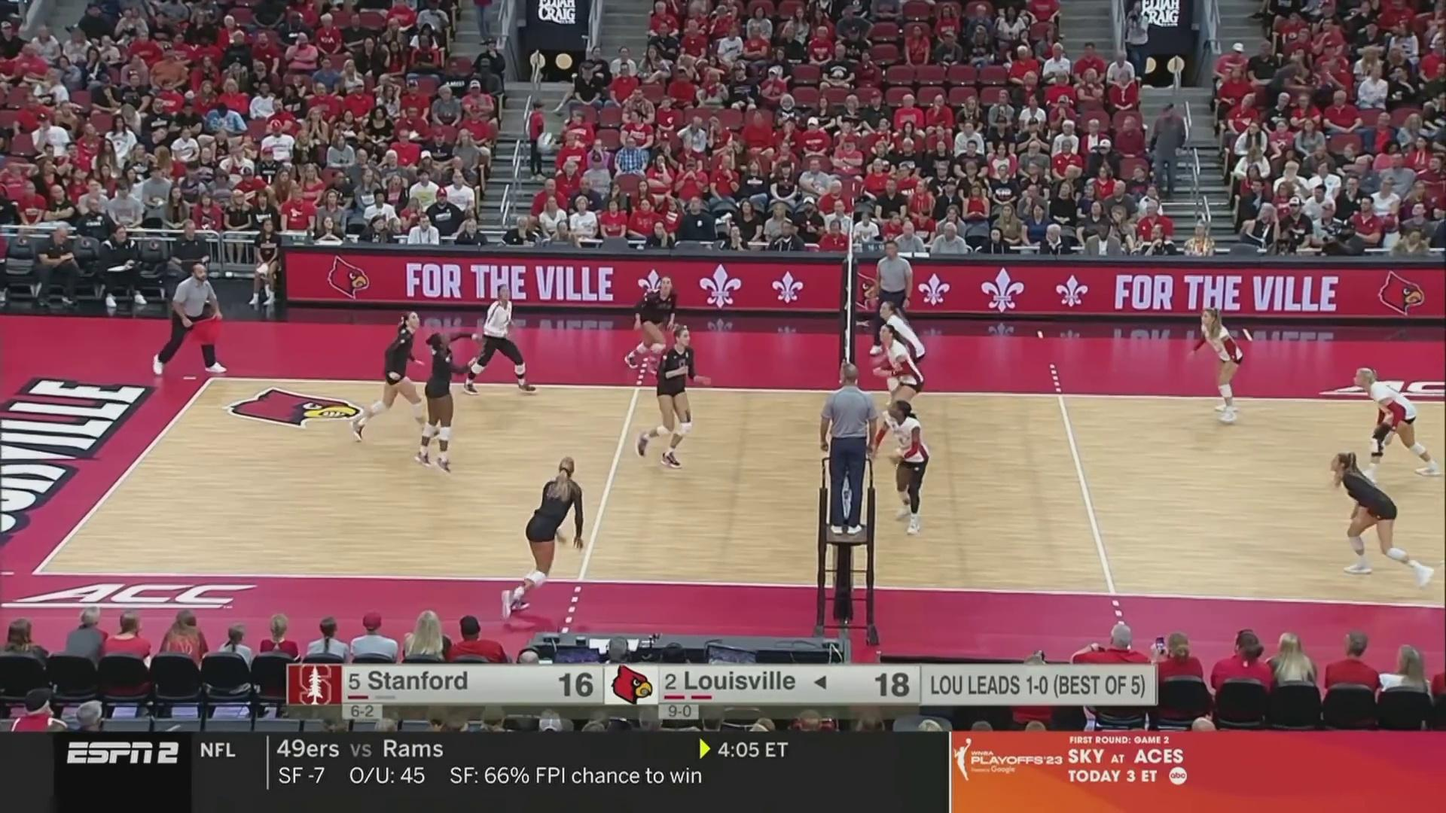player: (494, 460, 590, 615), (1326, 447, 1432, 578), (1328, 371, 1446, 478), (349, 310, 432, 446), (635, 327, 700, 471), (464, 288, 543, 395), (877, 399, 935, 531), (414, 332, 463, 472), (874, 324, 928, 450), (1194, 311, 1252, 427), (872, 301, 927, 418), (622, 276, 681, 375)
refree: (819, 362, 883, 539), (160, 262, 227, 378), (868, 241, 915, 356)
